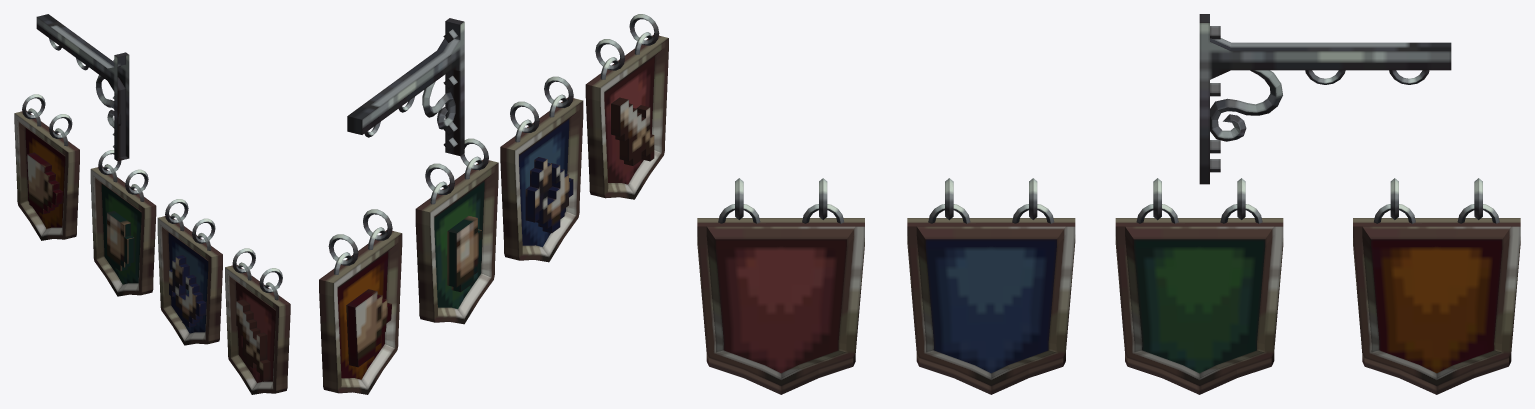
File: EnvObjMD_Signboard_A_Inn.FBX
3 views of the same model, side by side, from view 1: azimuth 30°, elevation 25°; view 2: azimuth 150°, elevation 25°; view 3: azimuth 270°, elevation 25° (orthographic). The views are drawn at different scales.
Parts seen in each view (by area): view 1: EnvObjMD_Signboard_A_Weapon, EnvObjMD_Signboard_A_Bar, EnvObjMD_Signboard_A_Inn, EnvObjMD_Signboard_A_Item, EnvObjMD_Signboard_A_Frame; view 2: EnvObjMD_Signboard_A_Inn, EnvObjMD_Signboard_A_Bar, EnvObjMD_Signboard_A_Weapon, EnvObjMD_Signboard_A_Item, EnvObjMD_Signboard_A_Frame; view 3: EnvObjMD_Signboard_A_Inn, EnvObjMD_Signboard_A_Item, EnvObjMD_Signboard_A_Bar, EnvObjMD_Signboard_A_Weapon, EnvObjMD_Signboard_A_Frame.
Part boxes in pixels (bbox=[...]): EnvObjMD_Signboard_A_Weapon: bbox=[225, 248, 290, 394]; EnvObjMD_Signboard_A_Bar: bbox=[14, 94, 79, 240]; EnvObjMD_Signboard_A_Inn: bbox=[157, 199, 222, 345]; EnvObjMD_Signboard_A_Item: bbox=[90, 150, 156, 296]; EnvObjMD_Signboard_A_Frame: bbox=[36, 14, 129, 161]; EnvObjMD_Signboard_A_Inn: bbox=[500, 76, 583, 262]; EnvObjMD_Signboard_A_Bar: bbox=[319, 209, 402, 394]; EnvObjMD_Signboard_A_Weapon: bbox=[585, 14, 668, 199]; EnvObjMD_Signboard_A_Item: bbox=[415, 138, 498, 324]; EnvObjMD_Signboard_A_Frame: bbox=[347, 18, 464, 155]; EnvObjMD_Signboard_A_Inn: bbox=[907, 178, 1075, 394]; EnvObjMD_Signboard_A_Item: bbox=[1115, 178, 1283, 394]; EnvObjMD_Signboard_A_Bar: bbox=[1353, 178, 1520, 394]; EnvObjMD_Signboard_A_Weapon: bbox=[697, 178, 864, 394]; EnvObjMD_Signboard_A_Frame: bbox=[1199, 14, 1451, 184].
Size of the model in its own units: 20.19 by 196 by 393.
